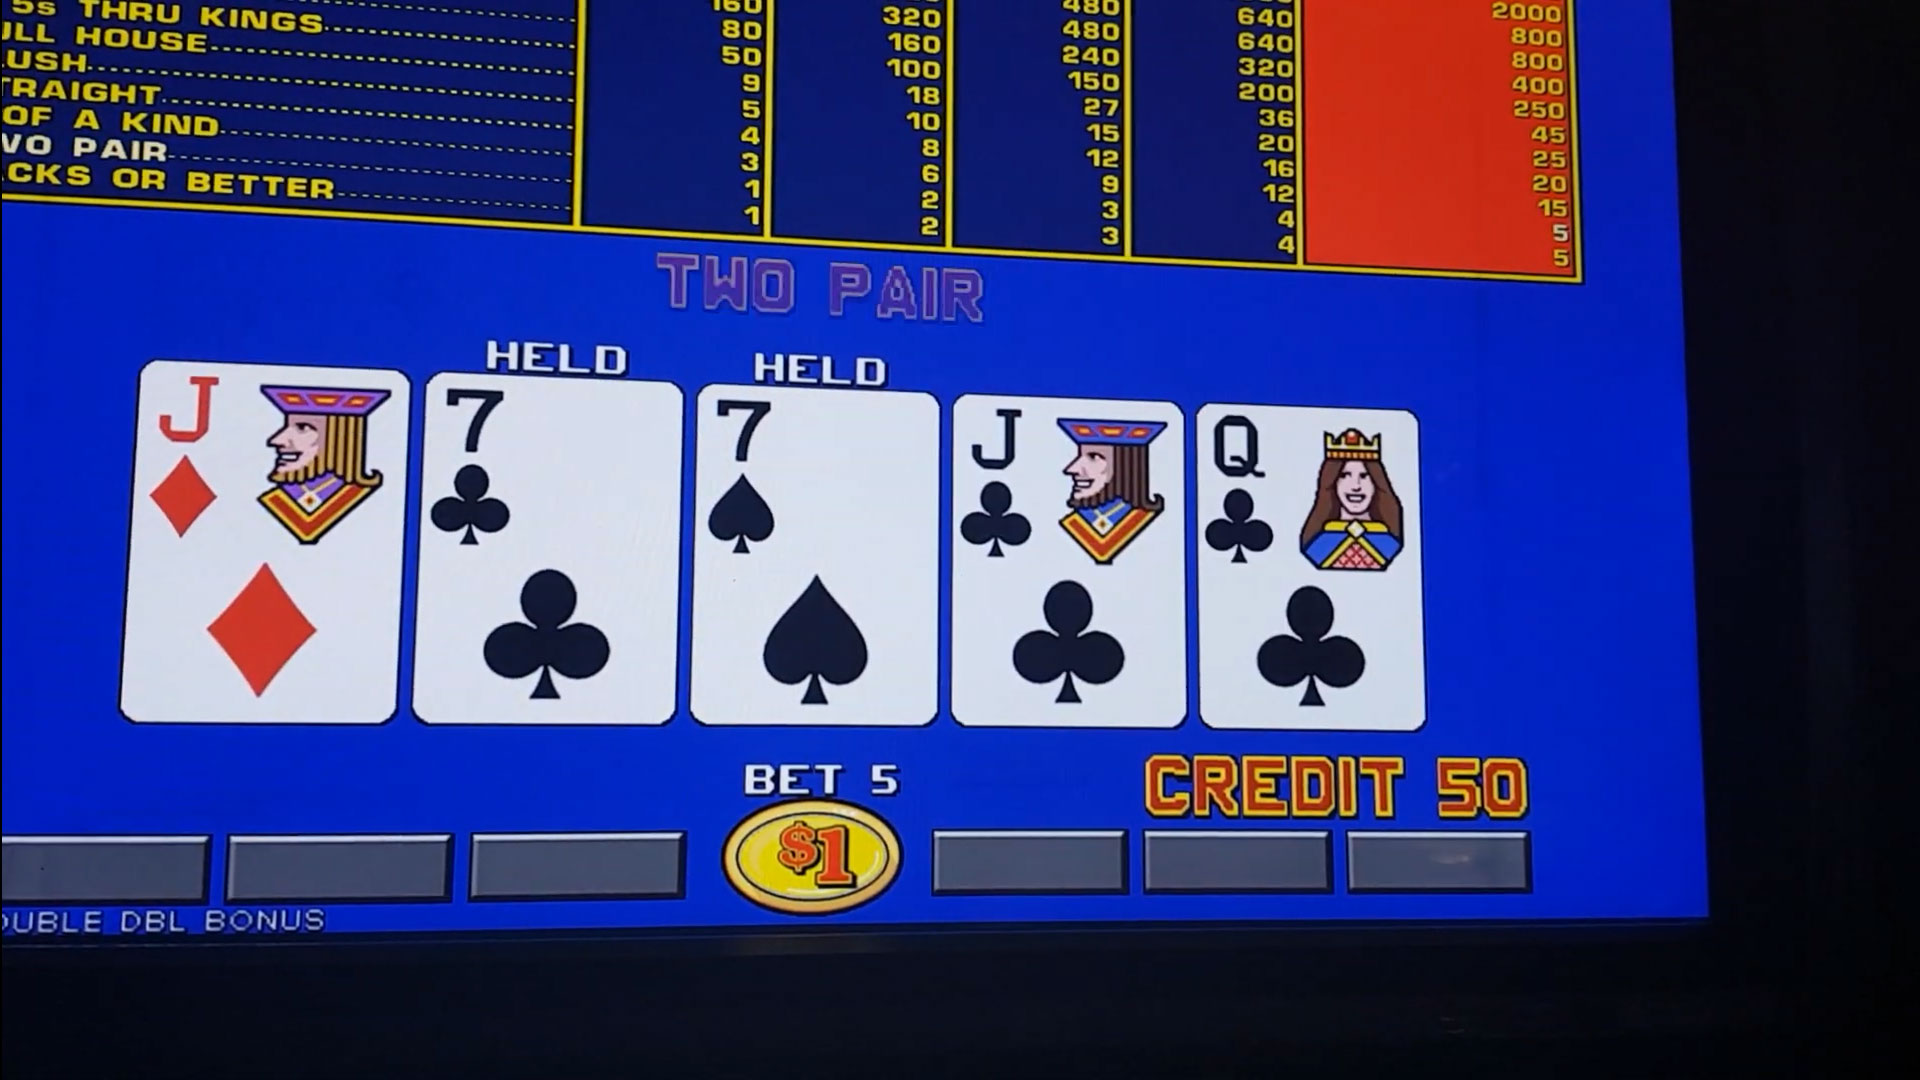C7: (433, 381, 673, 550)
CJ: (956, 409, 1182, 585)
CQ: (1199, 413, 1414, 578)
DJ: (148, 369, 397, 553)
S7: (705, 398, 930, 562)
